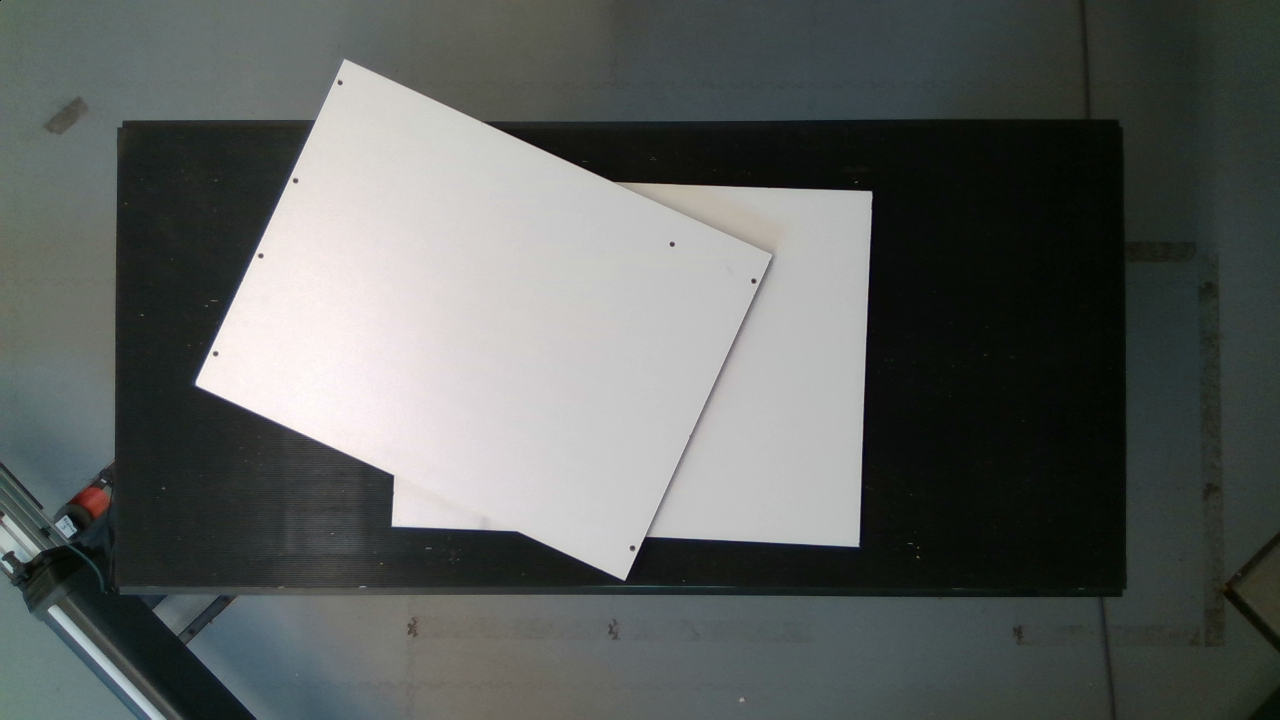part2: (193, 34, 760, 590), (383, 146, 912, 564)
